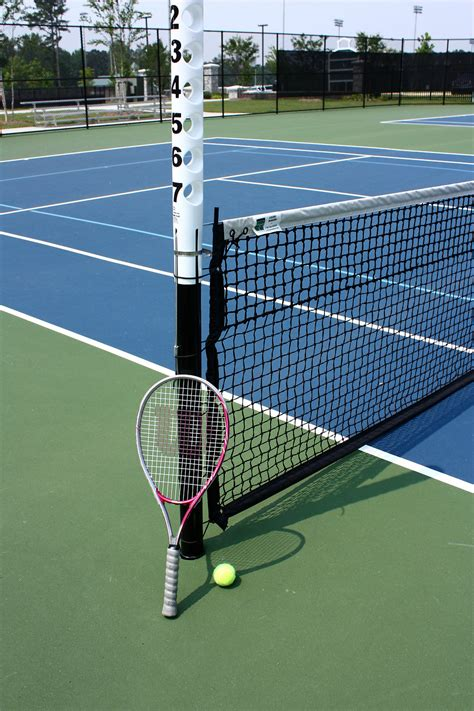tennis_ball: (212, 562, 236, 587)
